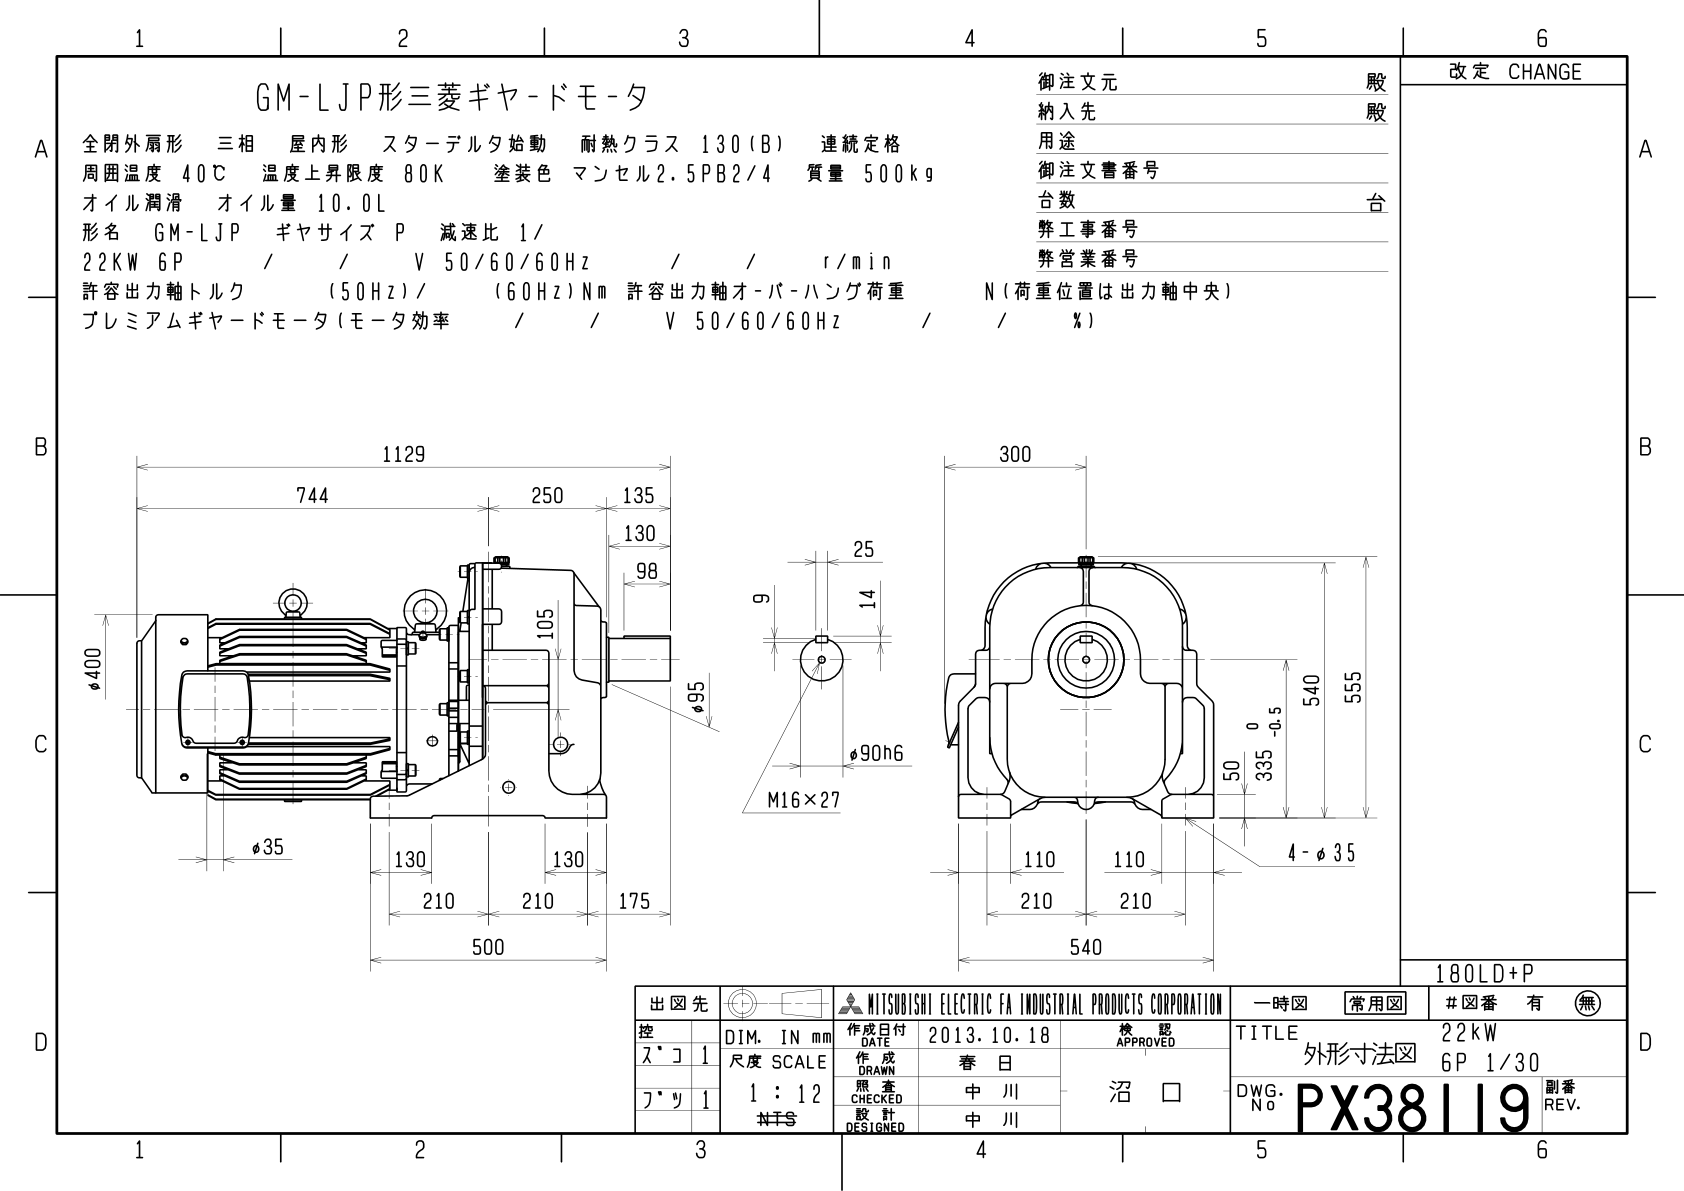GM_LJP_屋内_三相_脚: (67, 420, 1393, 969)
